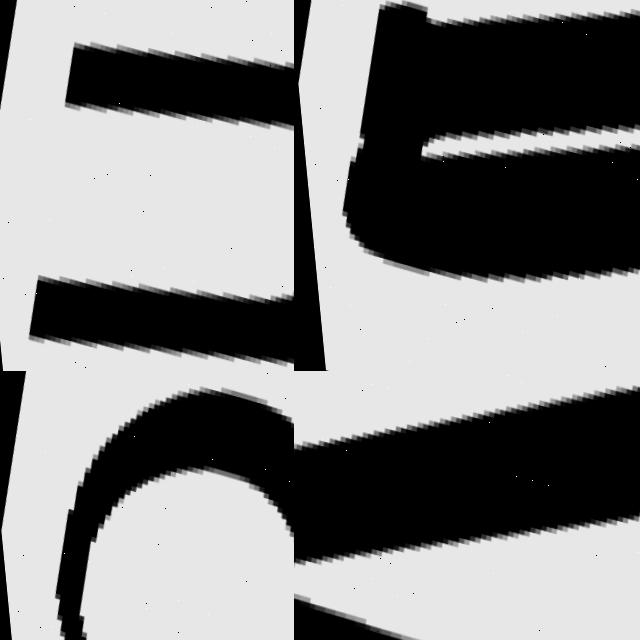3: (6, 371, 294, 640)
D: (295, 0, 640, 371)
H: (0, 0, 294, 371)
V: (294, 371, 640, 640)
